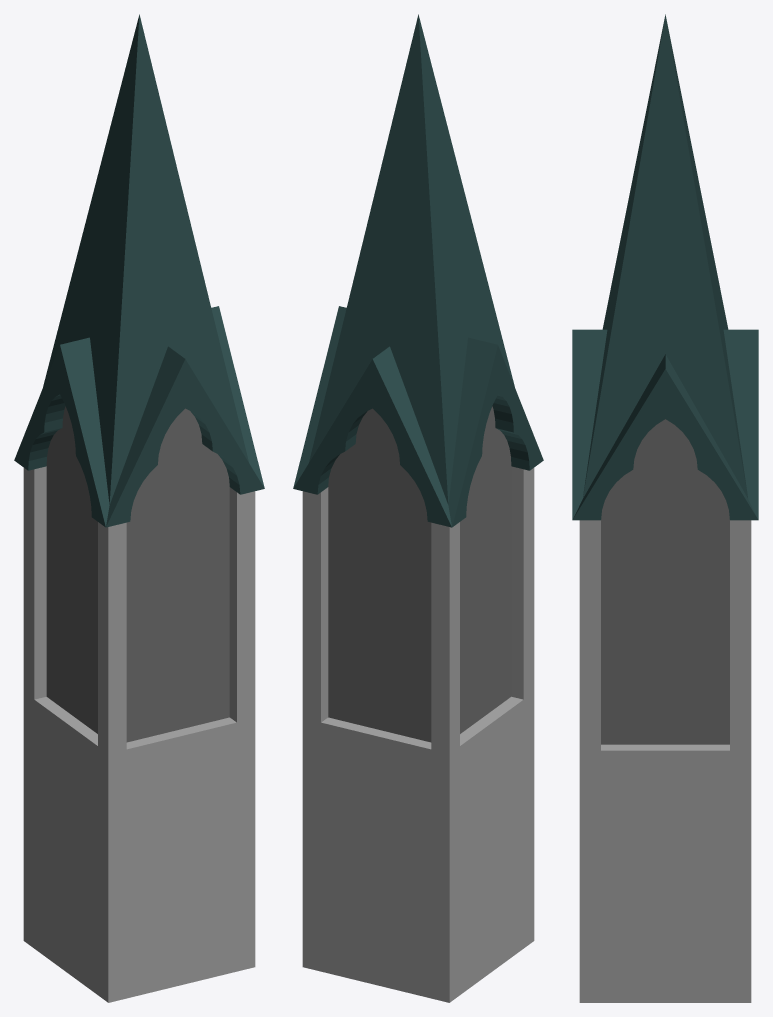
File: Prop_Gothic_Building_Peak_Roof_Top_02.FBX
The picture shows the model from 3 angles, left to right: view 1: azimuth 30°, elevation 25°; view 2: azimuth 150°, elevation 25°; view 3: azimuth 270°, elevation 25°; orthographic projection.
Parts seen in each view (by area): view 1: Prop_Gothic_Building_Peak_Roof_Top_02; view 2: Prop_Gothic_Building_Peak_Roof_Top_02; view 3: Prop_Gothic_Building_Peak_Roof_Top_02.
Part boxes in pixels (x1,y1,x2,y2): Prop_Gothic_Building_Peak_Roof_Top_02: (14, 14, 264, 1002); Prop_Gothic_Building_Peak_Roof_Top_02: (293, 14, 543, 1002); Prop_Gothic_Building_Peak_Roof_Top_02: (572, 14, 758, 1002).
Size of the model in its own units: 704 by 3979 by 704.
